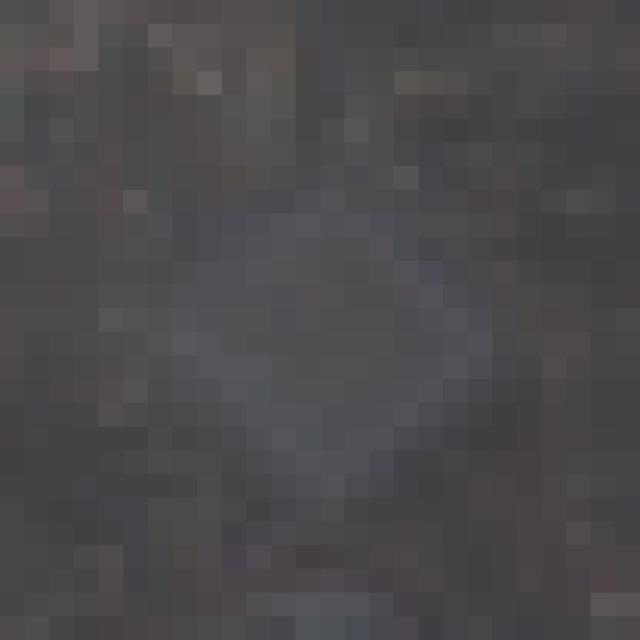Main Road: (124, 143, 493, 523)
